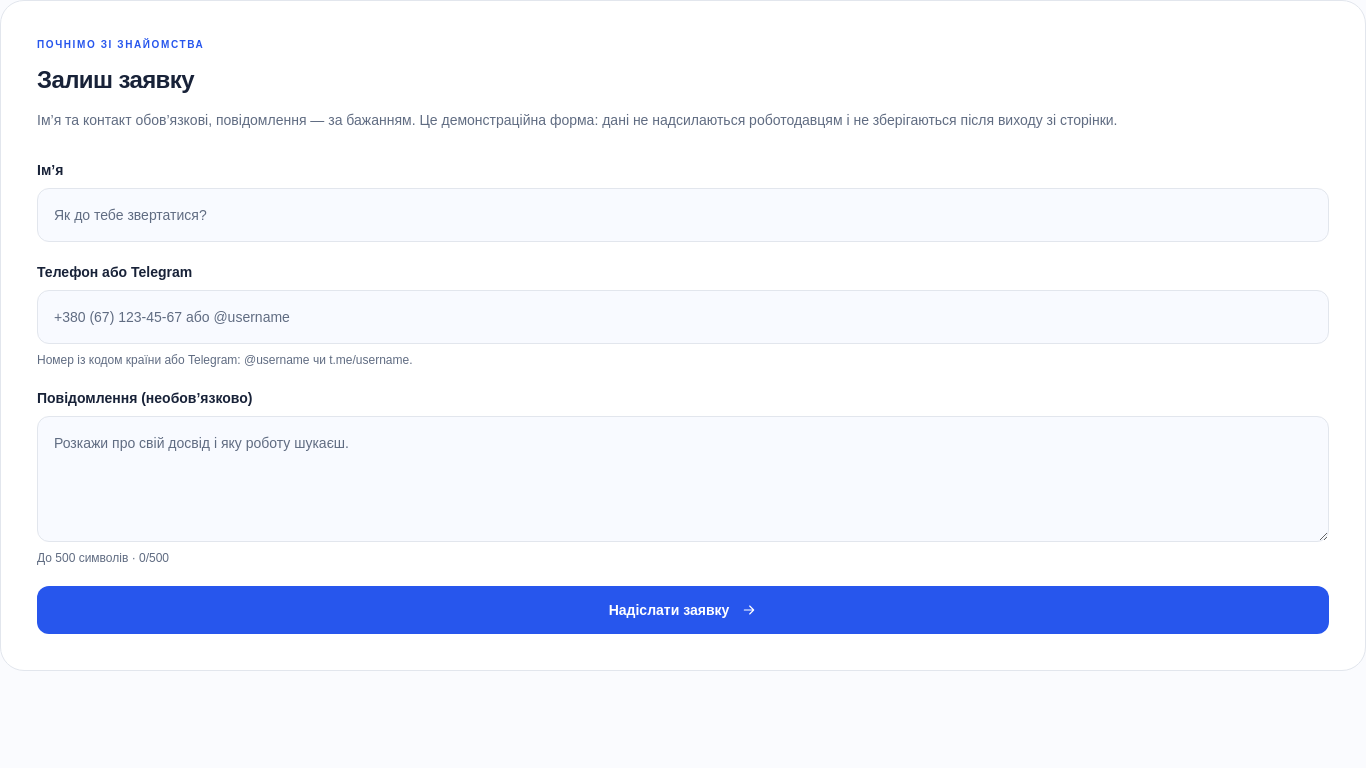
Test case: application submission › submits with only a name and contact (+380 (67) 123-45-67)
This screenshot has width=1366, height=768.
Type " Ол " into the field labelled "Ім’я" at (683, 215), box [37, 188, 1329, 242]
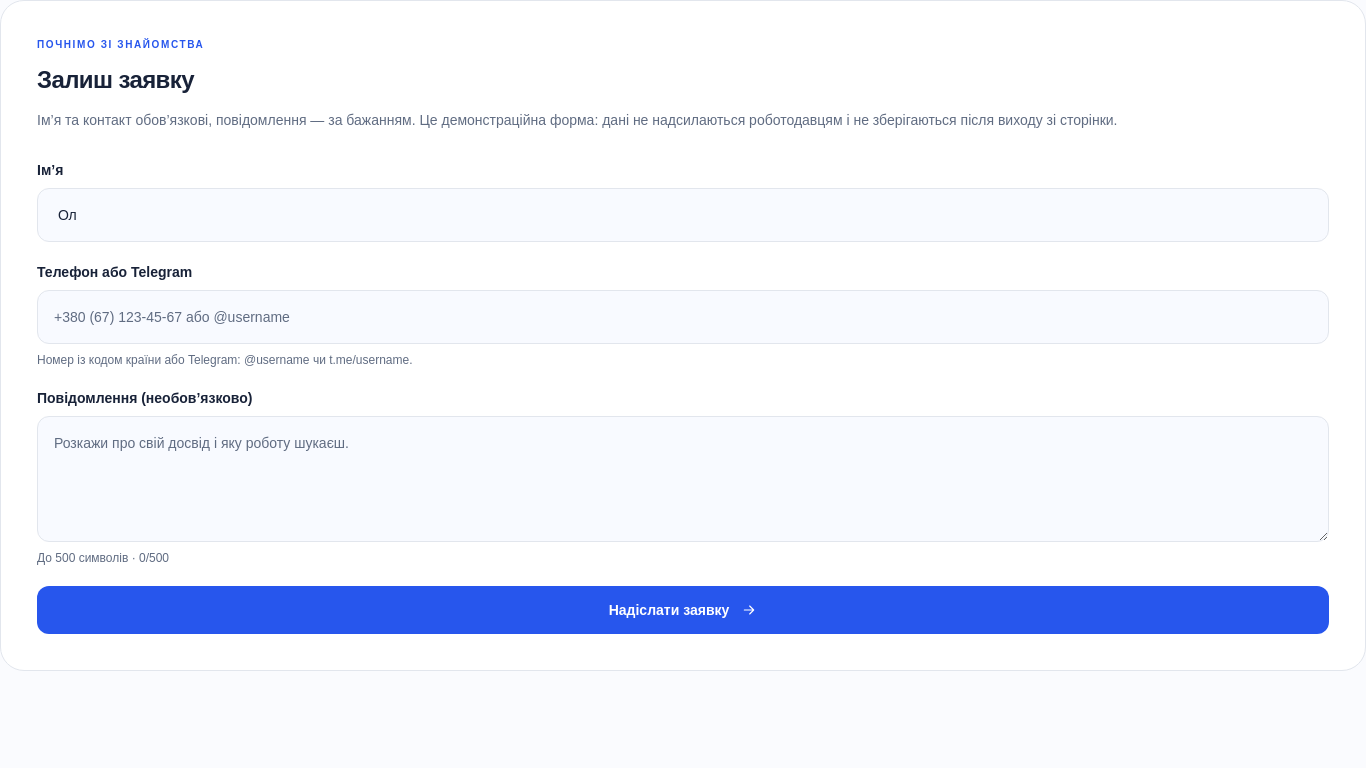
Type "+380 (67) 123-45-67" into the field labelled "Телефон або Telegram" at (683, 317), box [37, 290, 1329, 344]
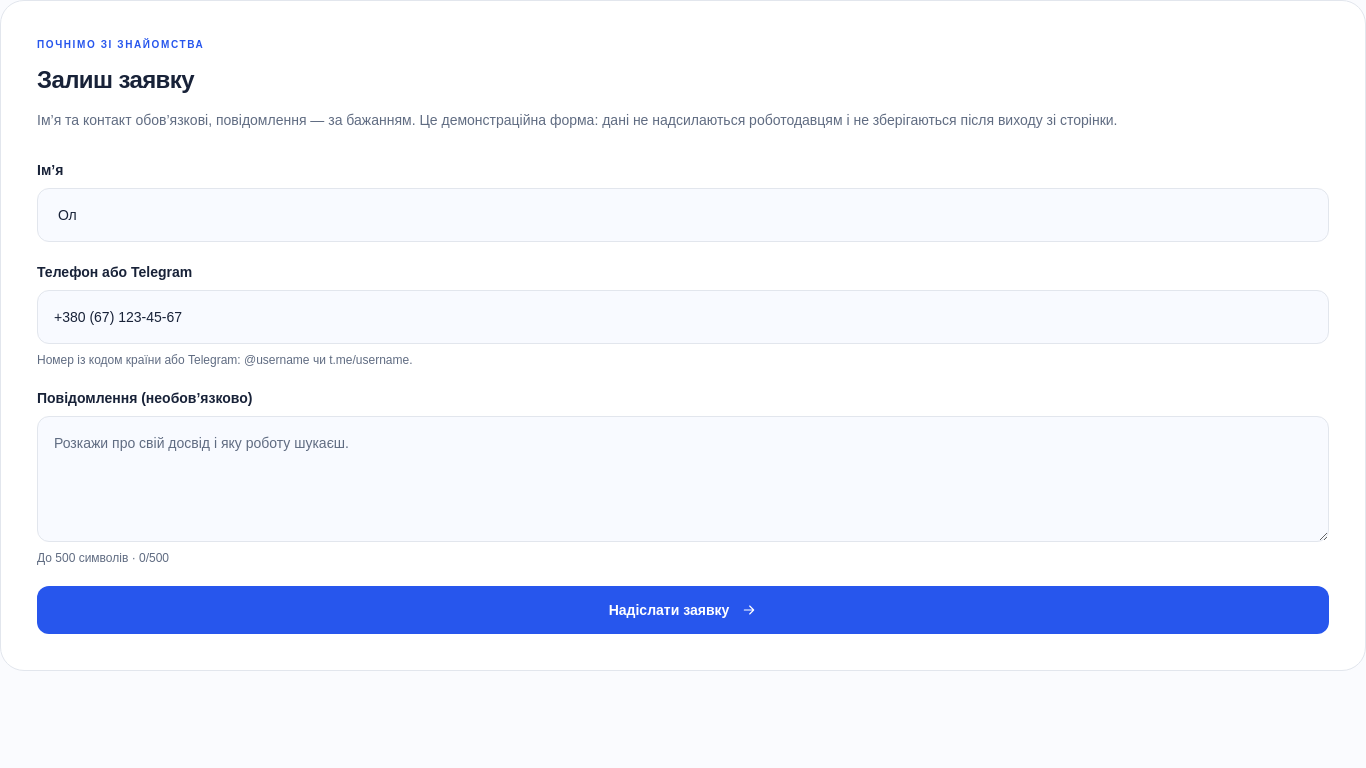
Click the button "Надіслати заявку" at (683, 610), box [37, 586, 1329, 634]
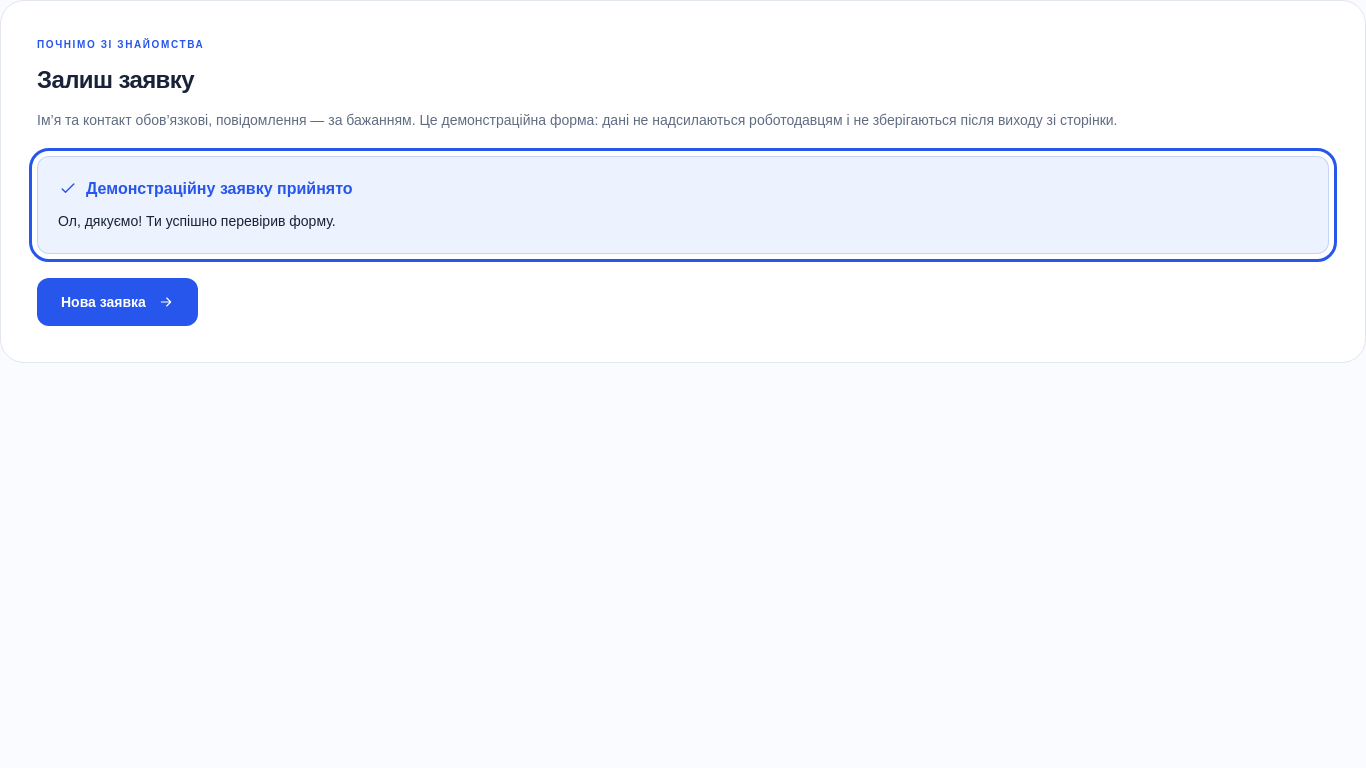
Now the message shows "Демонстраційну заявку прийнято", box [86, 180, 352, 197]
